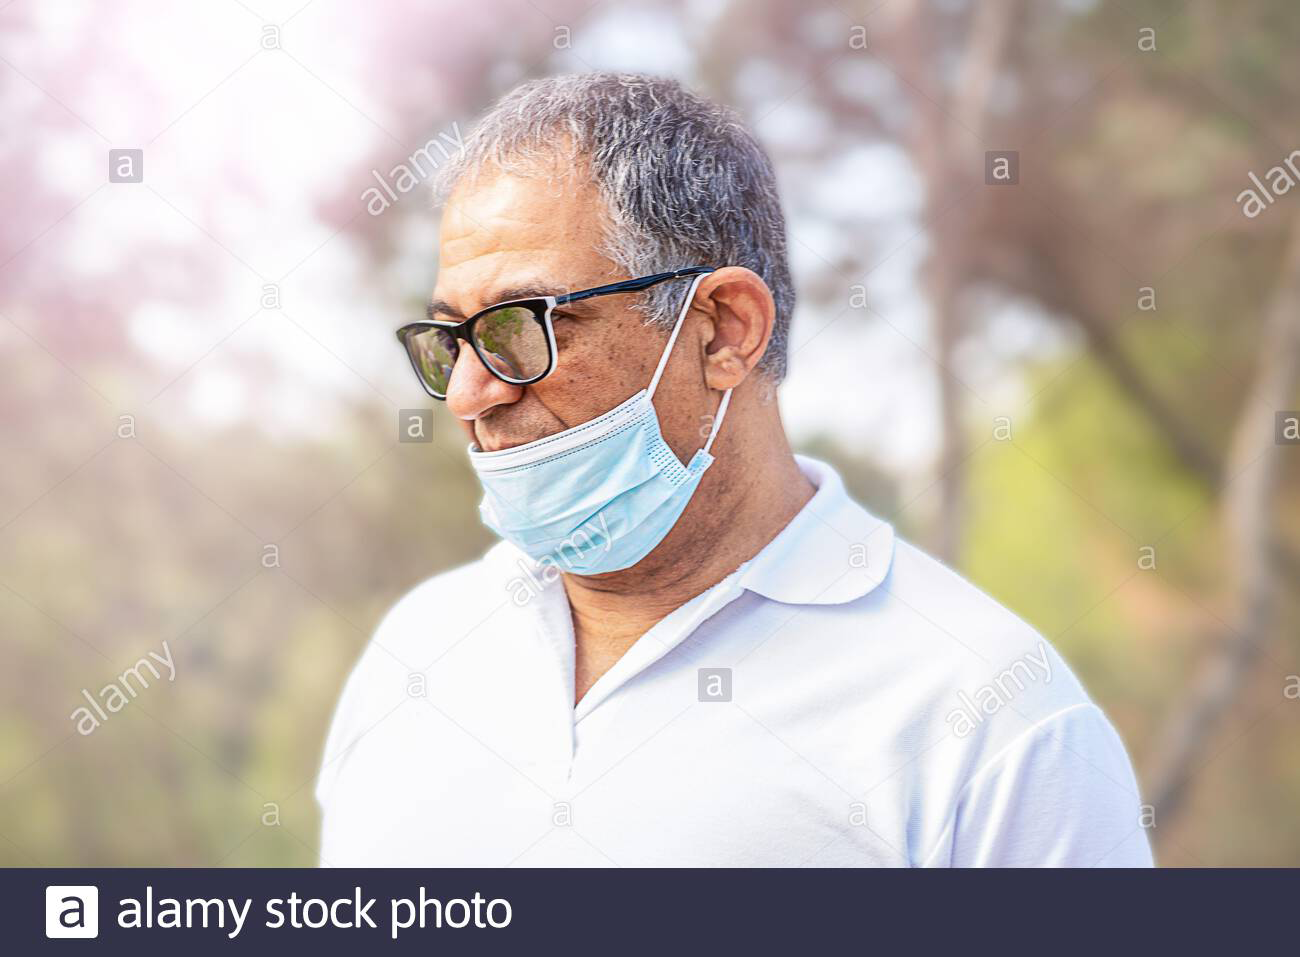mask_weared_incorrect: (420, 275, 714, 577)
